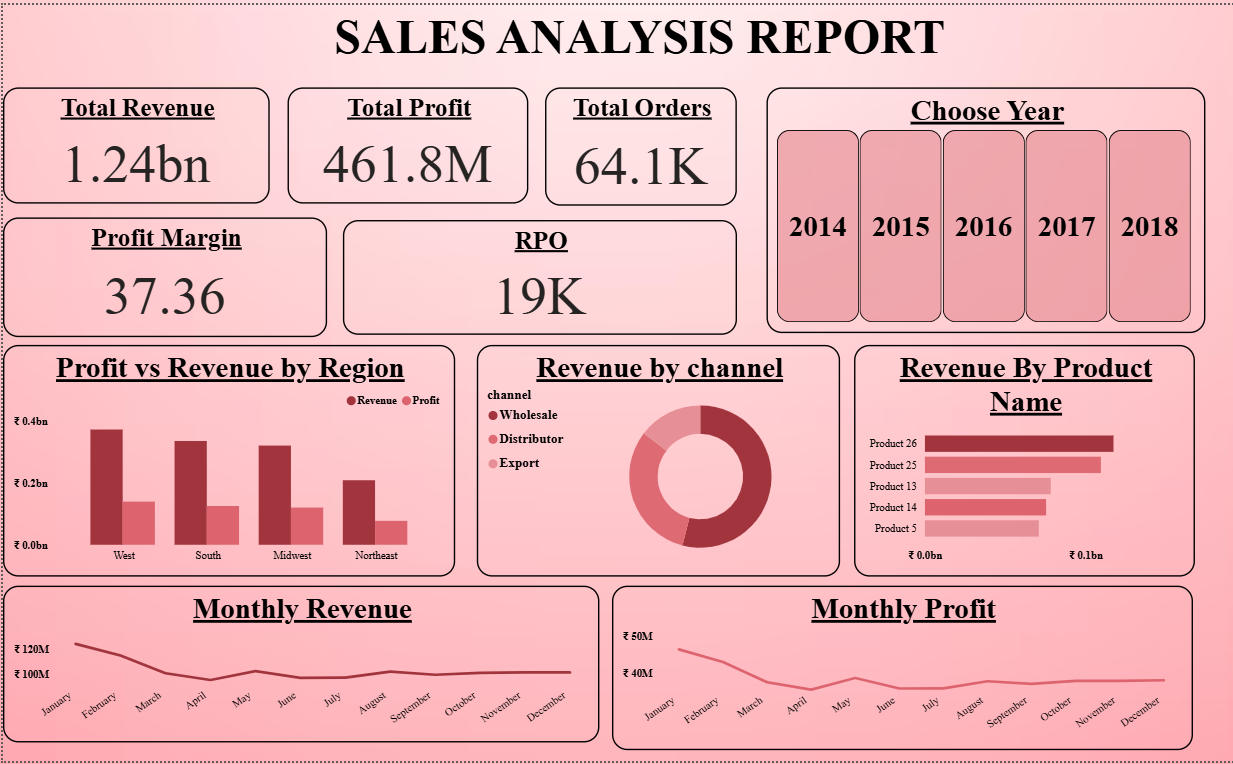

What the dashboard file says about the page in this screenshot:
{"tool":"powerbi","page":{"name":"Page 1","canvas":[1380,839],"ordinal":0},"visuals":[{"type":"card","title":"Total Revenue","fields":{"Values":["final_sales_file.Total_Revenue"]},"box":[0,91.4,295.7,128.6],"z":0},{"type":"card","title":"Total Profit","fields":{"Values":["final_sales_file.Total_profit"]},"box":[315.7,91.4,267.1,128.6],"z":1000},{"type":"card","title":"Profit Margin","fields":{"Values":["final_sales_file.profit_margin_pct"]},"box":[0,235.7,360,132.9],"z":2000},{"type":"card","title":"Total Orders","fields":{"Values":["final_sales_file.Total_order"]},"box":[601.4,91.4,212.9,131.4],"z":3000},{"type":"card","title":"RPO","fields":{"Values":["final_sales_file.revenue_per_order"]},"box":[377.1,238.6,437.1,127.1],"z":4000},{"type":"lineChart","title":"Monthly Revenue","fields":{"Y":["Sum(final_sales_file.revenue)"],"Category":["final_sales_file.order_month_name"]},"box":[0,644.3,661.4,174.3],"z":5000},{"type":"lineChart","title":"Monthly Profit","fields":{"Category":["final_sales_file.order_month_name"],"Y":["Sum(final_sales_file.profit)"]},"box":[675.7,644.3,644.3,182.9],"z":6000},{"type":"donutChart","title":" Revenue by channel","fields":{"Category":["final_sales_file.channel"],"Y":["Sum(final_sales_file.revenue)"]},"box":[525.7,377.1,402.9,257.1],"z":7000},{"type":"clusteredBarChart","title":"Revenue By Product Name","fields":{"Category":["final_sales_file.product_name"],"Y":["Sum(final_sales_file.revenue)"]},"box":[944.3,377.1,378.6,257.1],"z":8000},{"type":"clusteredColumnChart","title":"Profit vs Revenue by Region","fields":{"Category":["final_sales_file.region"],"Y":["Sum(final_sales_file.revenue)","Sum(final_sales_file.profit)"]},"box":[0,377.1,501.4,257.1],"z":9000},{"type":"textbox","box":[251.4,0,910,77.1],"z":10000},{"type":"advancedSlicerVisual","title":"Choose Year","fields":{"Values":["final_sales_file.order_date.Variation.Date Hierarchy.Year"]},"box":[847.1,91.4,487.1,272.9],"z":11000}]}

Visuals, with their boxes in screenshot pixels (x1, y1, x2, y2), scaled from the page's 1380x839 canvas onto the 1233x764 screenshot:
"Total Revenue" card: pyautogui.locateOnScreen(0, 83, 264, 200)
"Total Profit" card: pyautogui.locateOnScreen(282, 83, 521, 200)
"Profit Margin" card: pyautogui.locateOnScreen(0, 215, 322, 336)
"Total Orders" card: pyautogui.locateOnScreen(537, 83, 728, 203)
"RPO" card: pyautogui.locateOnScreen(337, 217, 727, 333)
"Monthly Revenue" lineChart: pyautogui.locateOnScreen(0, 587, 591, 745)
"Monthly Profit" lineChart: pyautogui.locateOnScreen(604, 587, 1179, 753)
" Revenue by channel" donutChart: pyautogui.locateOnScreen(470, 343, 830, 578)
"Revenue By Product Name" clusteredBarChart: pyautogui.locateOnScreen(844, 343, 1182, 578)
"Profit vs Revenue by Region" clusteredColumnChart: pyautogui.locateOnScreen(0, 343, 448, 578)
textbox: pyautogui.locateOnScreen(225, 0, 1038, 70)
"Choose Year" advancedSlicerVisual: pyautogui.locateOnScreen(757, 83, 1192, 332)
